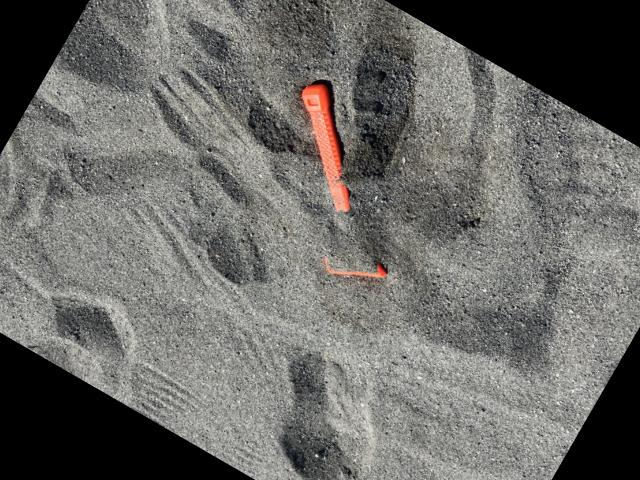hammer: (230, 76, 452, 297)
